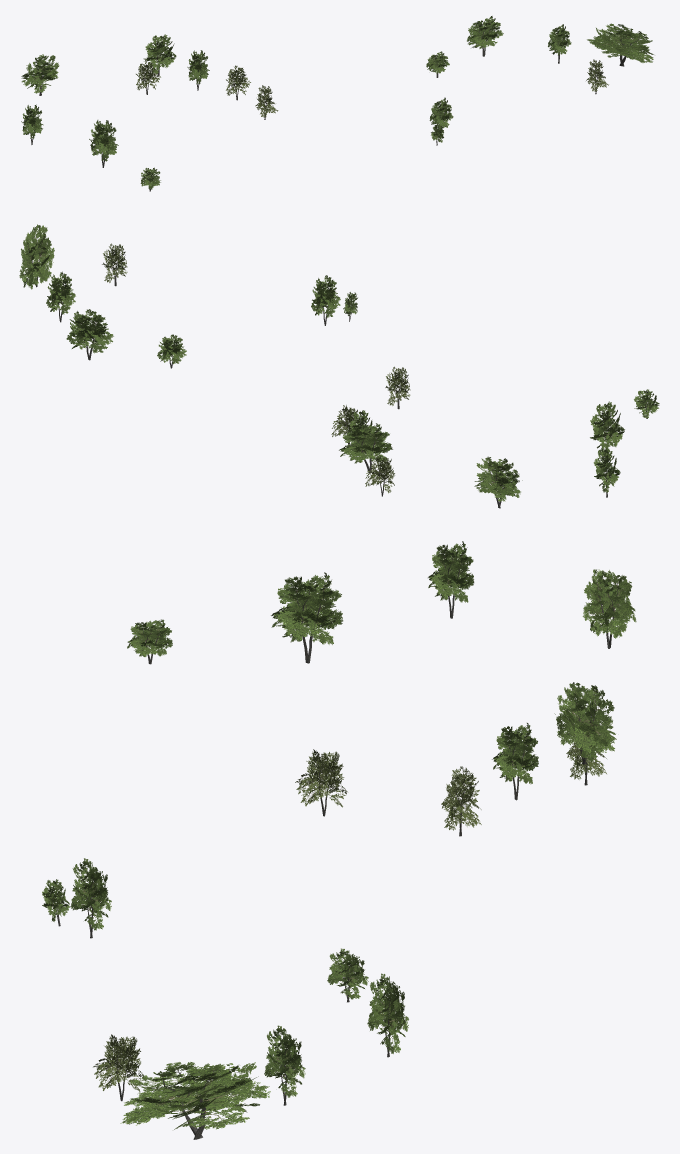
The model's file is vegetacion.obj.
3 views of the same model, one above another, from view 1: azimuth 30°, elevation 25°; view 2: azimuth 150°, elevation 25°; view 3: azimuth 270°, elevation 25° (orthographic). The views are drawn at different scales.
Visible parts, largest first — view 1: Tree-03-1.004, Tree-03-1.008, Tree-03-1.002, Tree-03-1.006, Tree-03-1.011, Tree-03-1.007, Tree-03-1.009, Tree-03-1, Tree-03-1.003, Tree-01-1.002, Tree-01-1.003, Tree-01-1 (+3 smaller); view 2: Tree-03-1.004, Tree-03-1.011, Tree-03-1.008, Tree-03-1.002, Tree-03-1.006, Tree-03-1, Tree-03-1.003, Tree-03-1.007, Tree-01-1.003, Tree-01-1, Tree-01-1.001, Tree-03-1.001 (+2 smaller); view 3: Tree-03-1.004, Tree-03-1.006, Tree-03-1.011, Tree-03-1.008, Tree-03-1.002, Tree-03-1.007, Tree-03-1.009, Tree-01-1, Tree-01-1.001, Tree-03-1.003, Tree-03-1, Tree-01-1.002 (+2 smaller).
Part boxes in pixels (left/top/right/bottom): Tree-03-1.004: left=587, top=23, right=653, bottom=66; Tree-03-1.008: left=21, top=54, right=59, bottom=95; Tree-03-1.002: left=467, top=16, right=503, bottom=56; Tree-03-1.006: left=89, top=120, right=118, bottom=167; Tree-03-1.011: left=143, top=34, right=176, bottom=76; Tree-03-1.007: left=21, top=104, right=43, bottom=144; Tree-03-1.009: left=187, top=50, right=209, bottom=90; Tree-03-1: left=548, top=24, right=571, bottom=63; Tree-03-1.003: left=429, top=97, right=453, bottom=128; Tree-01-1.002: left=226, top=65, right=250, bottom=100; Tree-01-1.003: left=136, top=60, right=160, bottom=94; Tree-01-1: left=255, top=85, right=278, bottom=119; Tree-03-1.004: left=19, top=224, right=54, bottom=289; Tree-03-1.011: left=339, top=423, right=392, bottom=472; Tree-03-1.008: left=474, top=456, right=522, bottom=508; Tree-03-1.002: left=66, top=309, right=113, bottom=360; Tree-03-1.006: left=590, top=401, right=624, bottom=458; Tree-03-1: left=46, top=271, right=75, bottom=322; Tree-03-1.003: left=311, top=275, right=340, bottom=325; Tree-03-1.007: left=593, top=448, right=620, bottom=497; Tree-01-1.003: left=365, top=455, right=394, bottom=496; Tree-01-1: left=385, top=366, right=410, bottom=409; Tree-01-1.001: left=102, top=243, right=127, bottom=286; Tree-03-1.001: left=157, top=334, right=186, bottom=368; Tree-03-1.004: left=120, top=1062, right=270, bottom=1139; Tree-03-1.006: left=271, top=572, right=343, bottom=663; Tree-03-1.011: left=554, top=682, right=616, bottom=764; Tree-03-1.008: left=582, top=569, right=636, bottom=648; Tree-03-1.002: left=367, top=973, right=408, bottom=1057; Tree-03-1.007: left=428, top=541, right=474, bottom=618; Tree-03-1.009: left=492, top=723, right=538, bottom=800; Tree-01-1: left=295, top=749, right=347, bottom=816; Tree-01-1.001: left=93, top=1034, right=144, bottom=1101; Tree-03-1.003: left=70, top=858, right=111, bottom=938; Tree-03-1: left=264, top=1025, right=305, bottom=1105; Tree-01-1.002: left=441, top=766, right=481, bottom=836.
Bounding box in the file's own units: 1400 × 140 × 653.
Materials: 16 (16 with a texture image).
